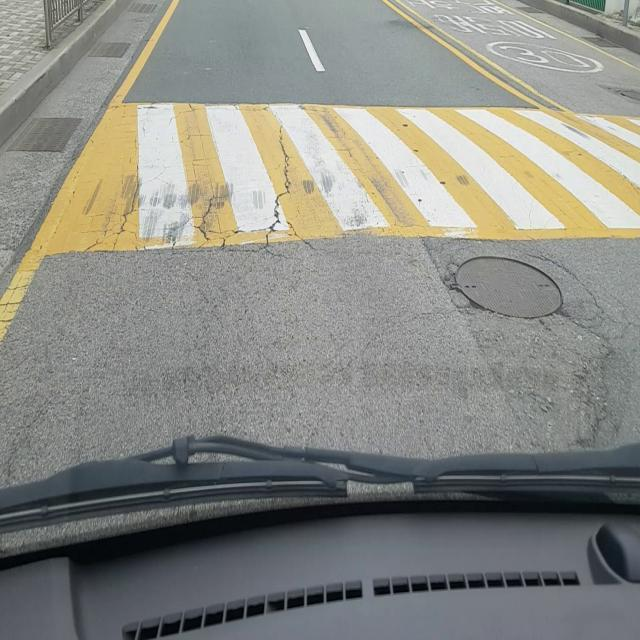pothole: (442, 252, 572, 321)
